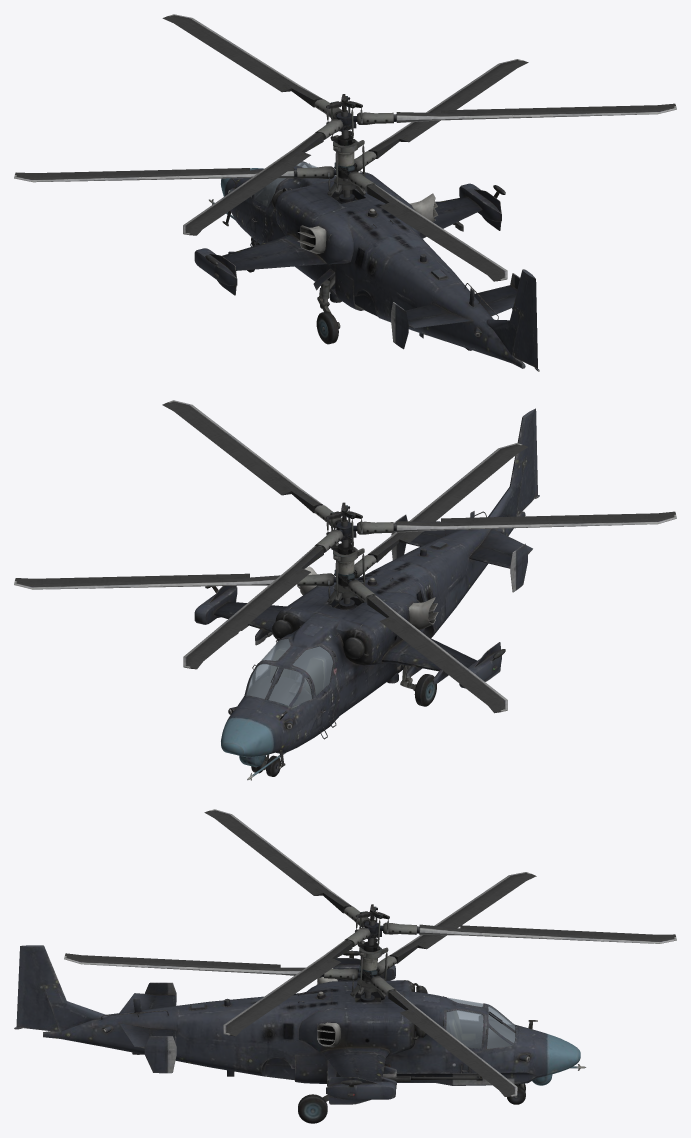
3 views of the same model, one above another, from view 1: azimuth 30°, elevation 25°; view 2: azimuth 150°, elevation 25°; view 3: azimuth 270°, elevation 25° (orthographic). The views are drawn at different scales.
Visible parts, largest first — view 1: body|Material.008, rotor|Material.008, rotor2|Material.008; view 2: body|Material.008, rotor|Material.008, rotor2|Material.008, body|glass; view 3: body|Material.008, rotor|Material.008, rotor2|Material.008, body|glass.
Part boxes in pixels (x1=…): body|Material.008: x1=194, y1=110, x2=539, y2=371; rotor|Material.008: x1=162, y1=14, x2=676, y2=235; rotor2|Material.008: x1=14, y1=59, x2=528, y2=281; body|Material.008: x1=194, y1=408, x2=539, y2=780; rotor|Material.008: x1=162, y1=400, x2=676, y2=669; rotor2|Material.008: x1=14, y1=443, x2=528, y2=713; body|glass: x1=246, y1=639, x2=332, y2=706; body|Material.008: x1=14, y1=919, x2=586, y2=1123; rotor|Material.008: x1=204, y1=809, x2=676, y2=1036; rotor2|Material.008: x1=64, y1=872, x2=536, y2=1096; body|glass: x1=446, y1=997, x2=515, y2=1048.
Bounding box in the file's own units: 12.65 × 4.97 × 15.69.
Materials: 4 (3 with a texture image).
